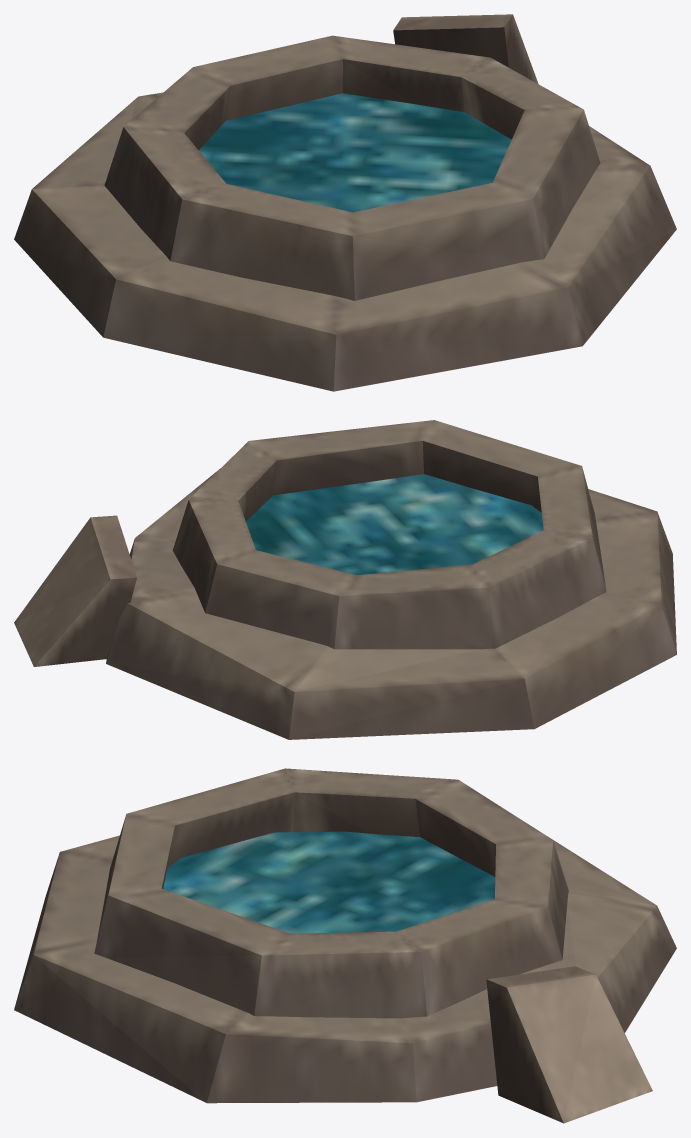
Rendered from Area_11_13.fbx.
3 renders of one model, top to bottom at view 1: azimuth 30°, elevation 25°; view 2: azimuth 150°, elevation 25°; view 3: azimuth 270°, elevation 25°, orthographic. The views are drawn at different scales.
Visible parts, largest first — view 1: Area_11_13; view 2: Area_11_13; view 3: Area_11_13.
Part boxes in pixels (x1=…): Area_11_13: x1=14, y1=14, x2=676, y2=391; Area_11_13: x1=14, y1=420, x2=676, y2=739; Area_11_13: x1=14, y1=768, x2=676, y2=1123.
Size of the model in its own units: 285 by 54.04 by 281.
